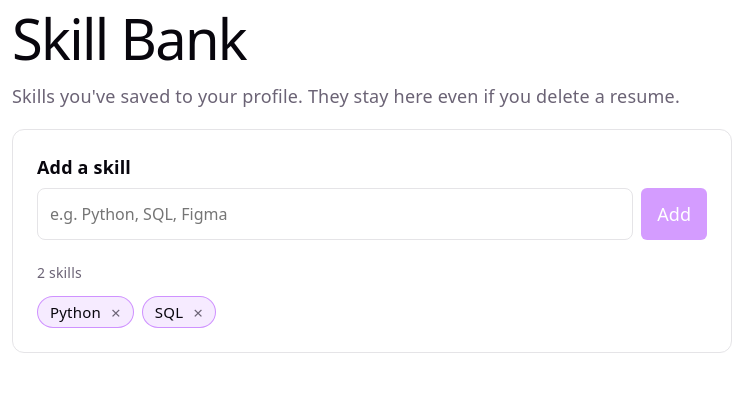
Test: SkillBank › shows an error if removing fails
Click the button named "Remove Python" at x=116, y=312, box [105,302,127,324]
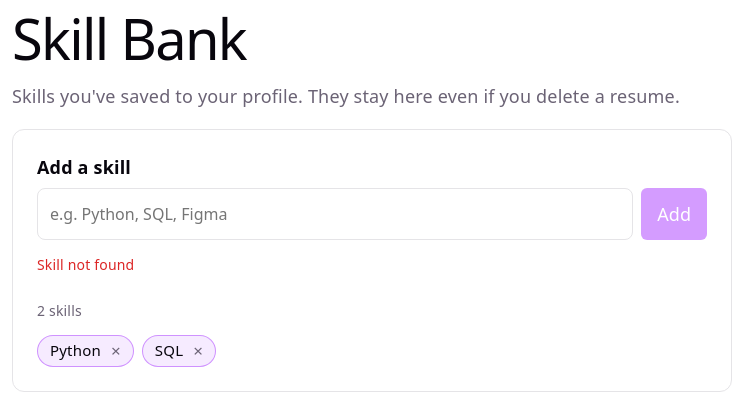
Expected: the message reads "Skill not found", [37,255,134,274]
